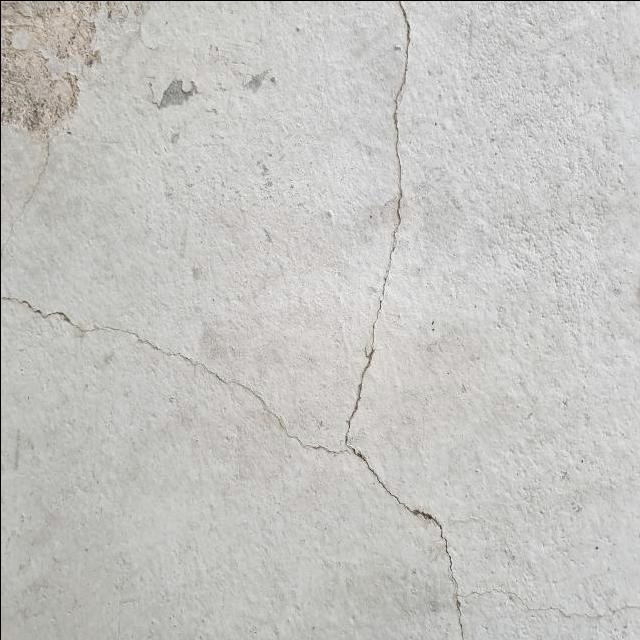SurfaceCrack: (0, 37, 526, 639)
